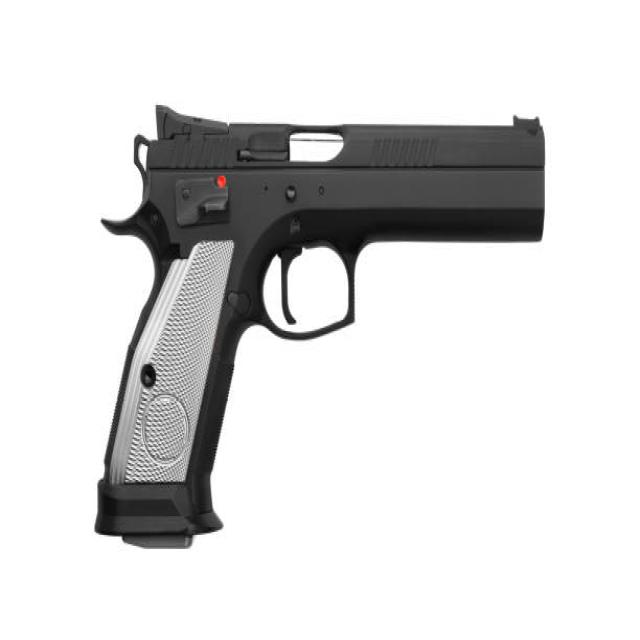pistol: (74, 97, 550, 563)
